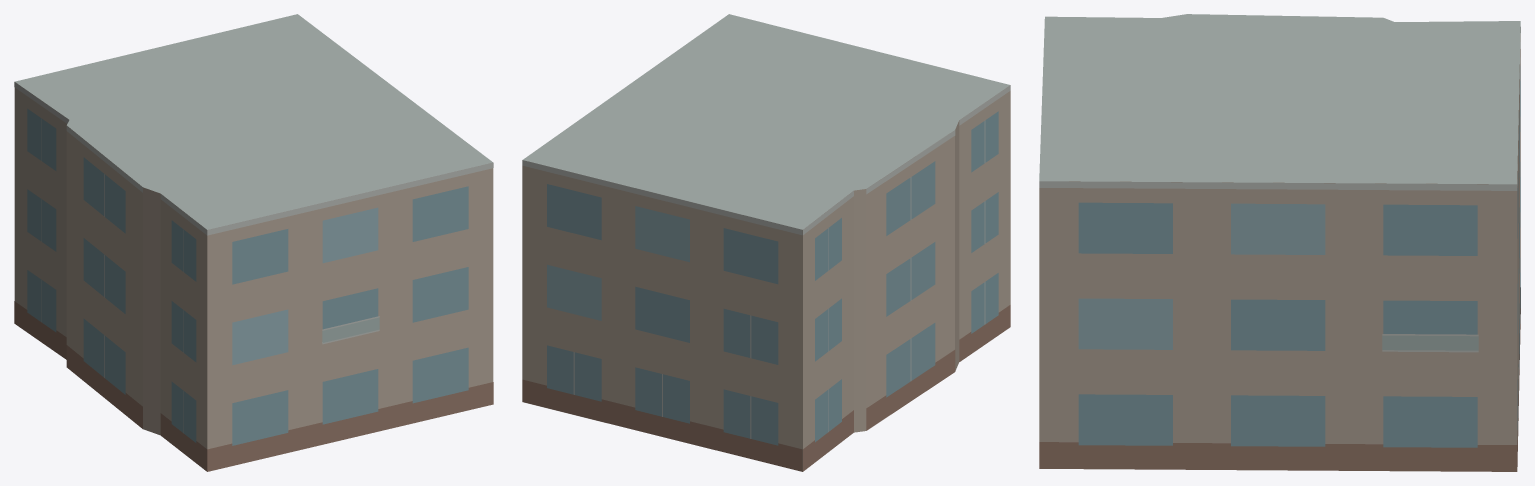
Rendered from survey-upis-32768869.glb.
The picture shows the model from 3 angles, left to right: view 1: azimuth 30°, elevation 25°; view 2: azimuth 150°, elevation 25°; view 3: azimuth 270°, elevation 25°; orthographic projection. The views are drawn at different scales.
Parts seen in each view (by area): view 1: survey-upis-32768869.tmp; view 2: survey-upis-32768869.tmp; view 3: survey-upis-32768869.tmp.
Part boxes in pixels (bbox=[...]): survey-upis-32768869.tmp: bbox=[14, 14, 493, 471]; survey-upis-32768869.tmp: bbox=[522, 14, 1010, 471]; survey-upis-32768869.tmp: bbox=[1039, 14, 1520, 471].
Bounding box in the file's own units: 13.36 × 10.5 × 15.95.
